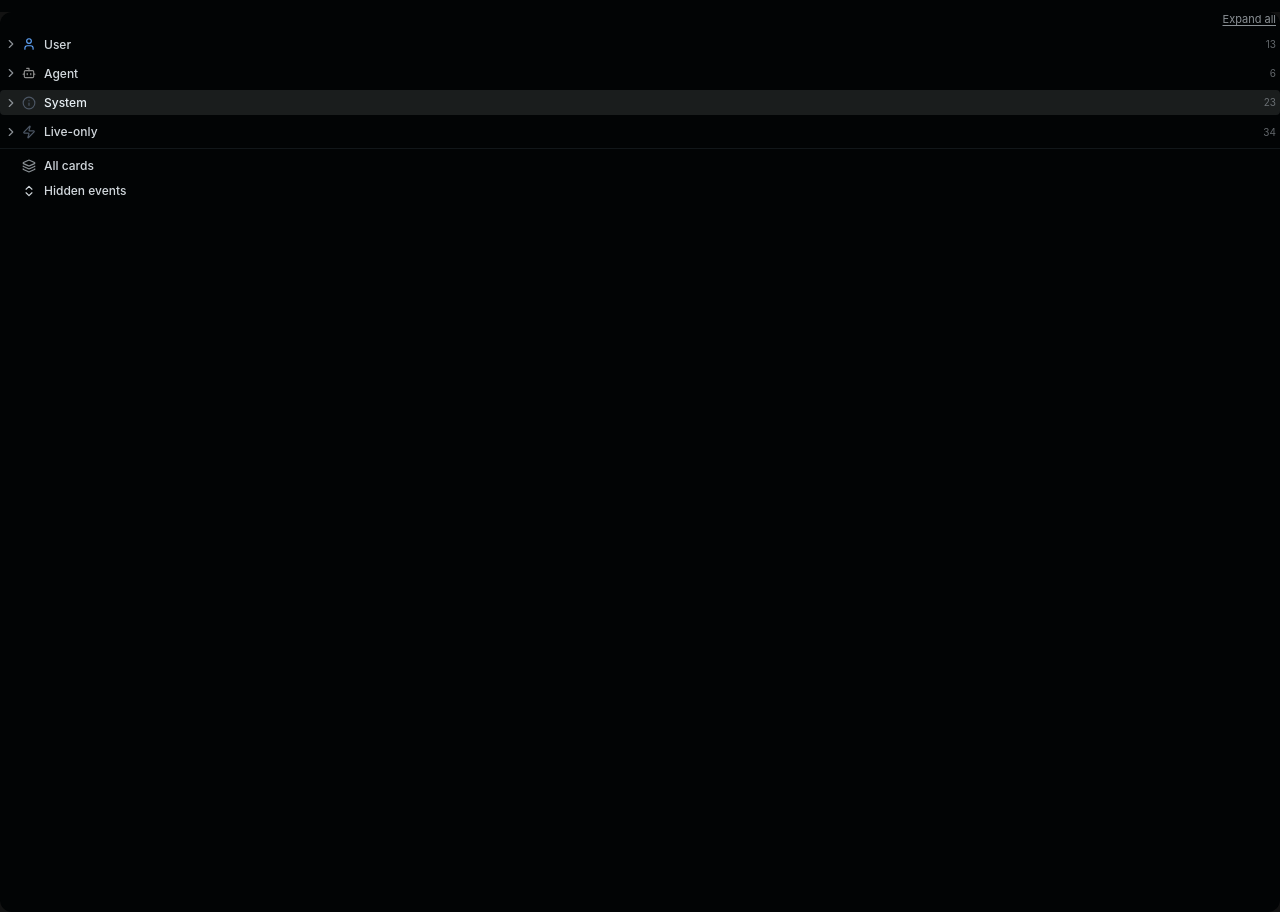
it: MessageKindTree — registry-driven › offers Collapse all while any category is open, and Expand all once none is
Expected: the button "Collapse all" is not shown
Click the button named "Expand User" at (11, 44), box [4,37,18,51]
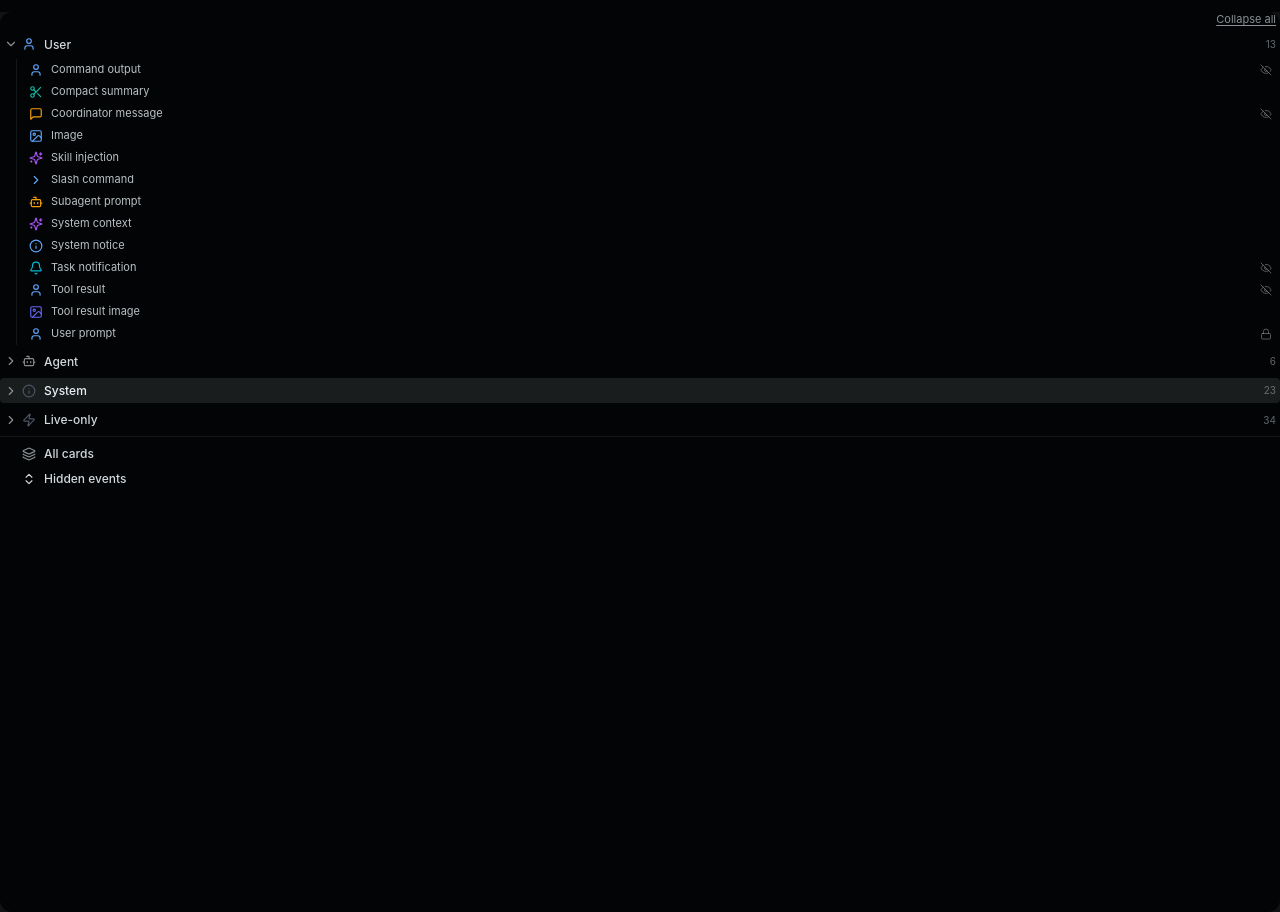
Expected: the button "Expand all" is gone
Click the button "Collapse all" at (1246, 20), box [1216,12,1276,28]
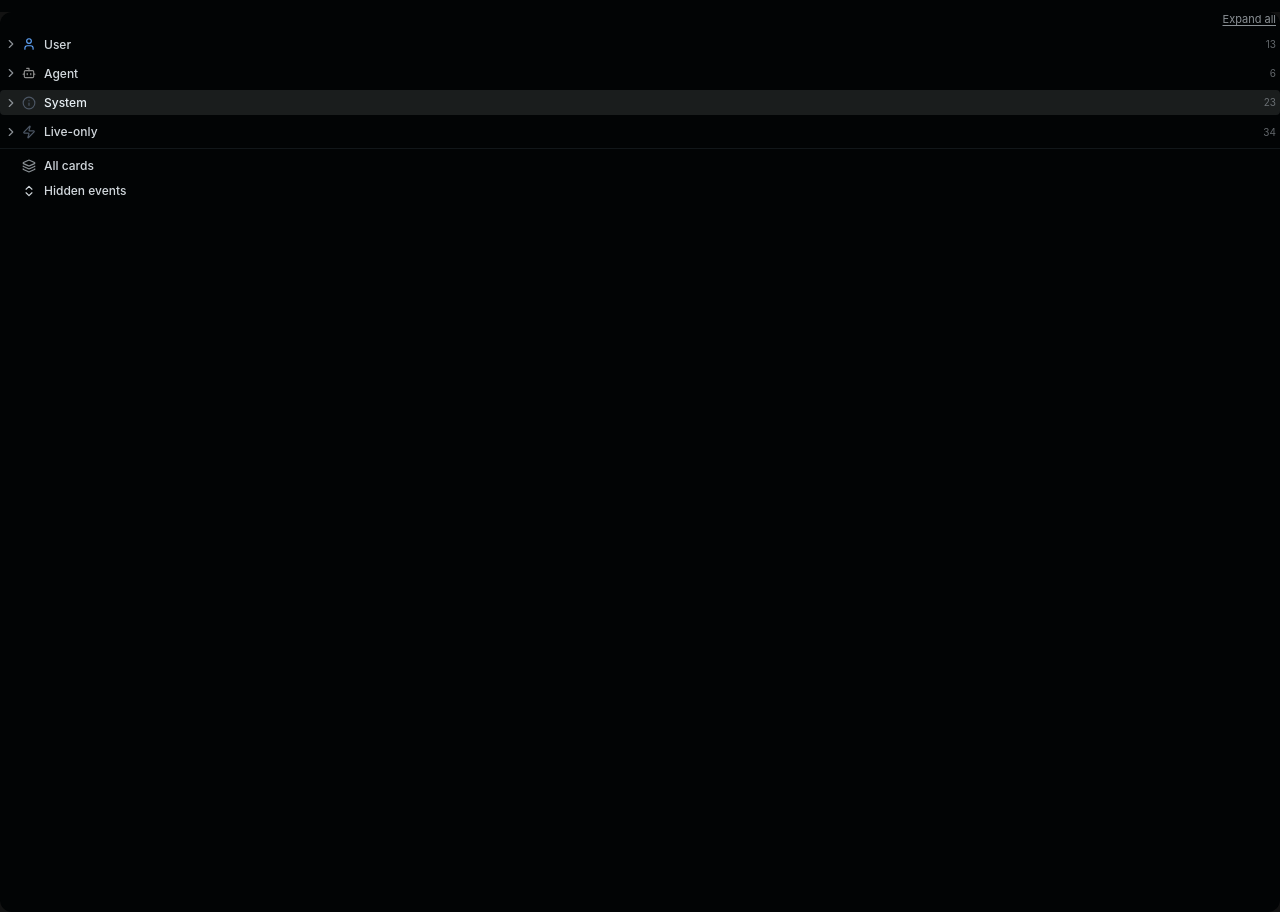
Expected: the button "Tool result" is gone
Expected: the button "Expand all" is shown, [1222,12,1276,28]
